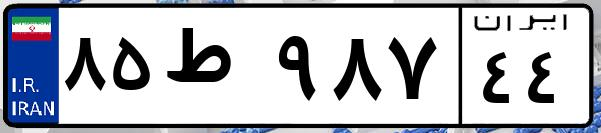4: (475, 38, 525, 113), (525, 38, 570, 115)
5: (110, 28, 158, 98)
7: (385, 28, 445, 110)
8: (330, 28, 385, 110), (57, 26, 110, 100)
9: (270, 28, 330, 110)
ط: (158, 20, 270, 120)
